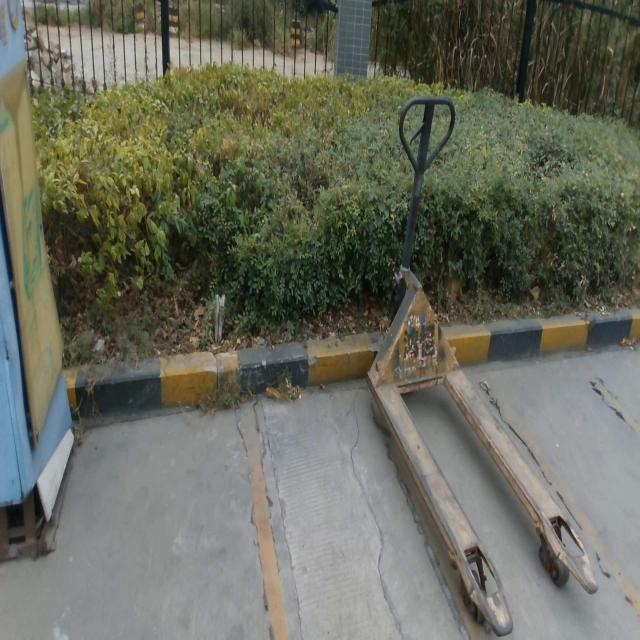forklift: (365, 91, 601, 640)
